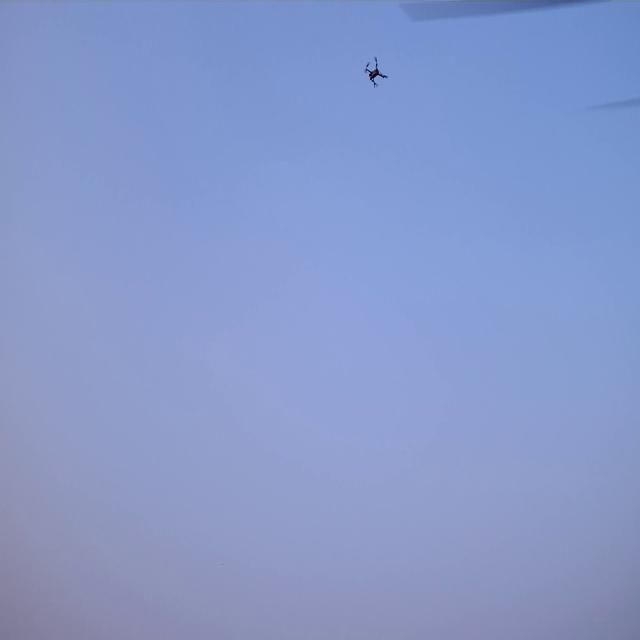UAV: (365, 59, 386, 87)
